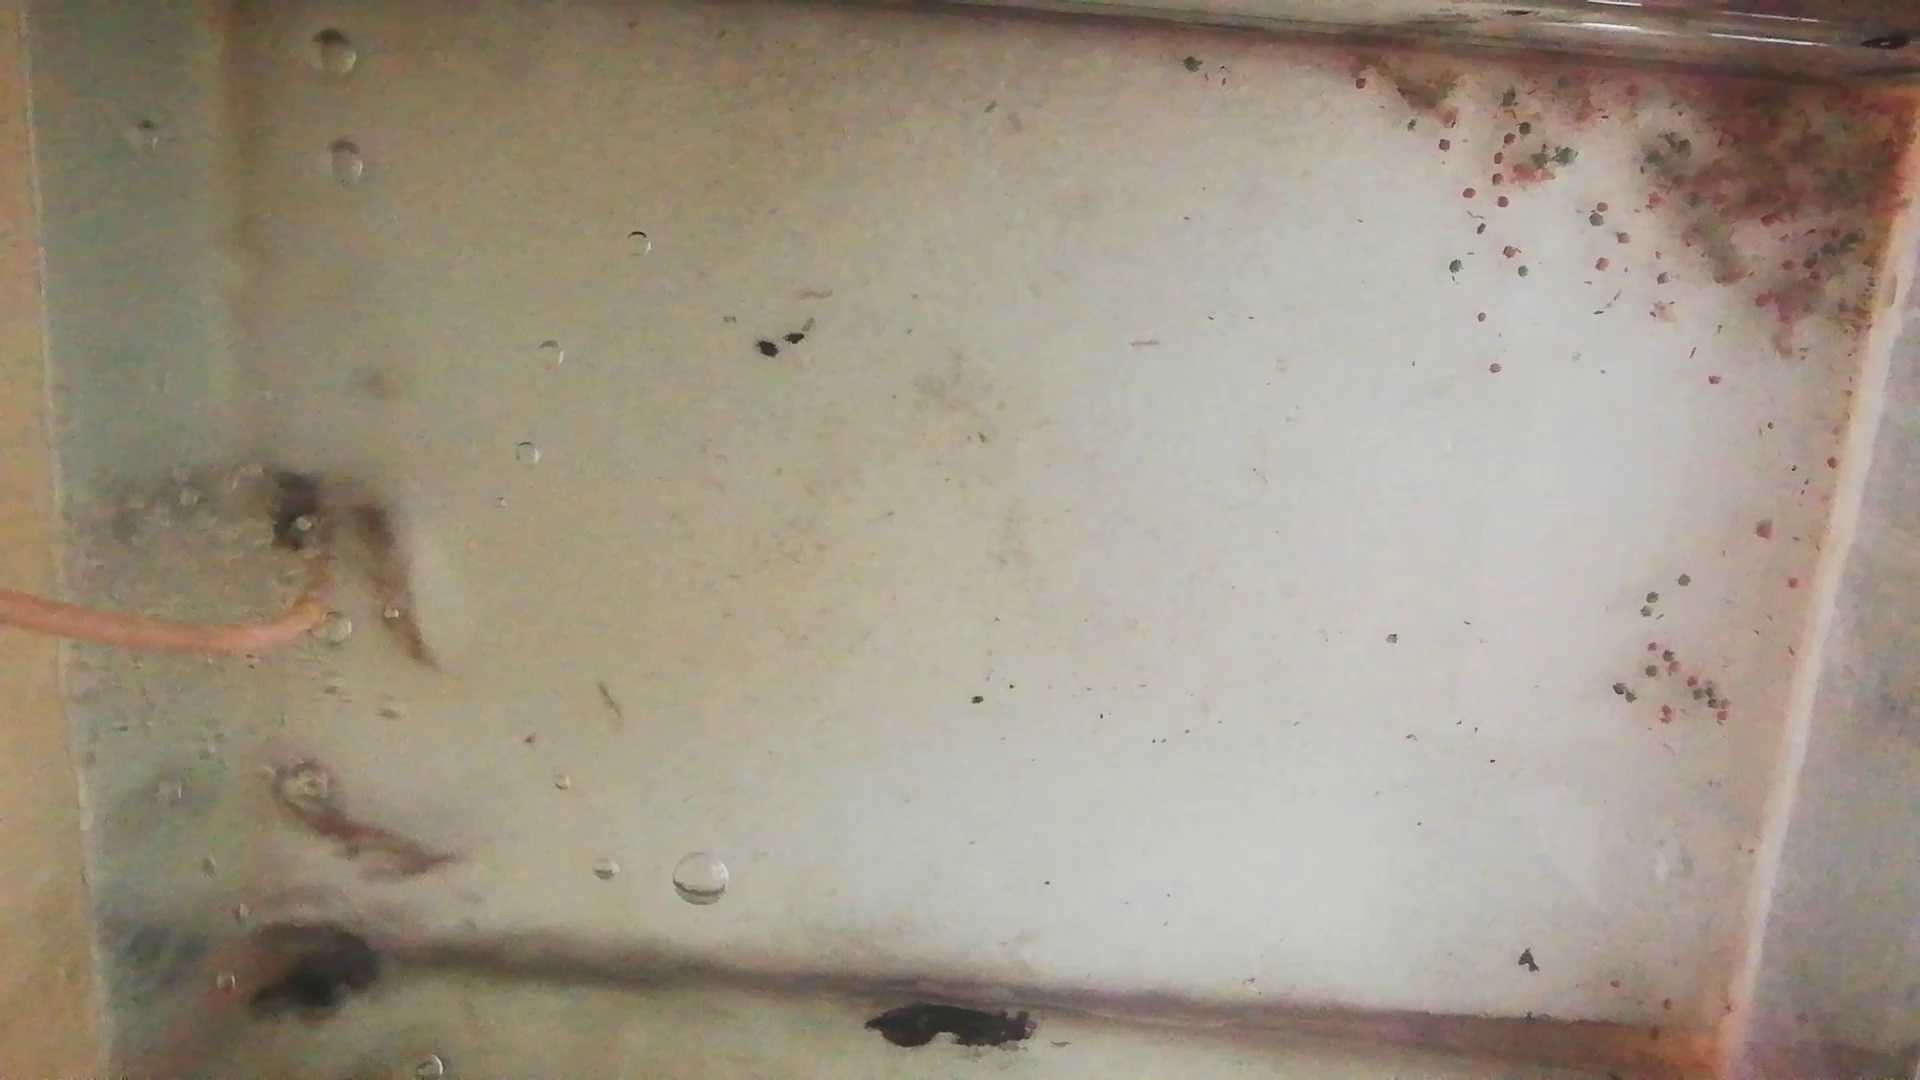fish: (257, 752, 462, 870), (342, 487, 444, 659)
